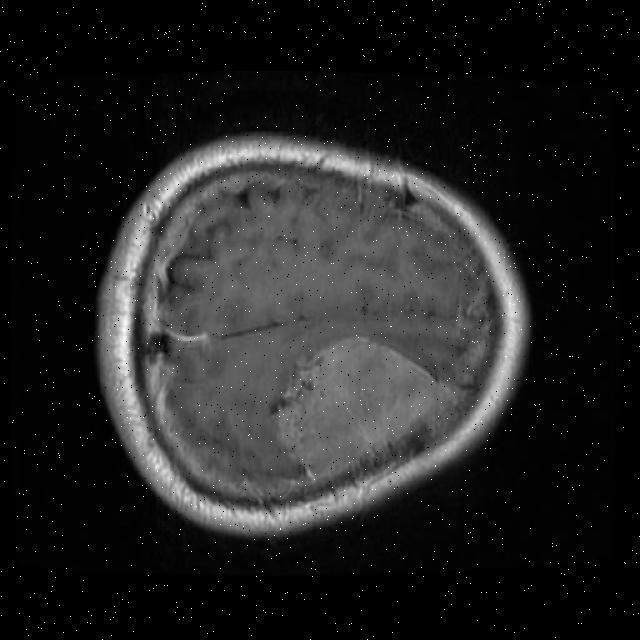Meningioma: (273, 338, 453, 481)
